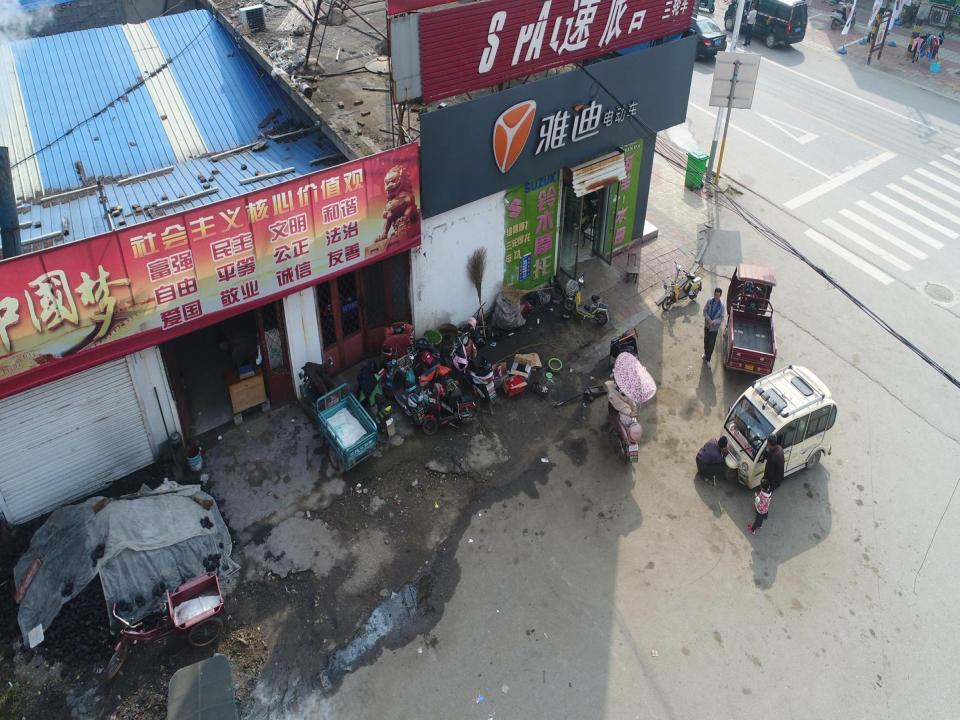car: (720, 366, 836, 488), (686, 12, 728, 60)
van: (724, 0, 807, 49)
